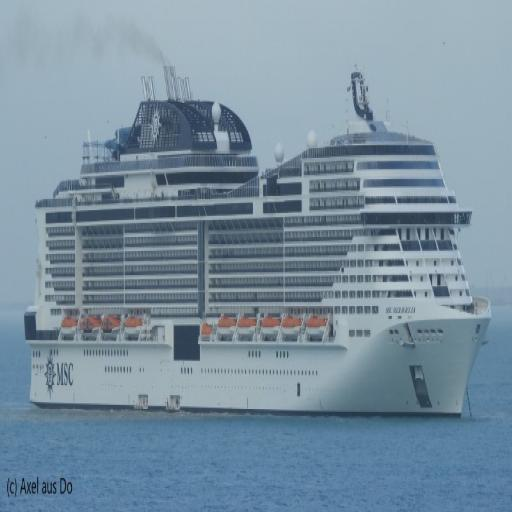cruises: (21, 55, 495, 427)
